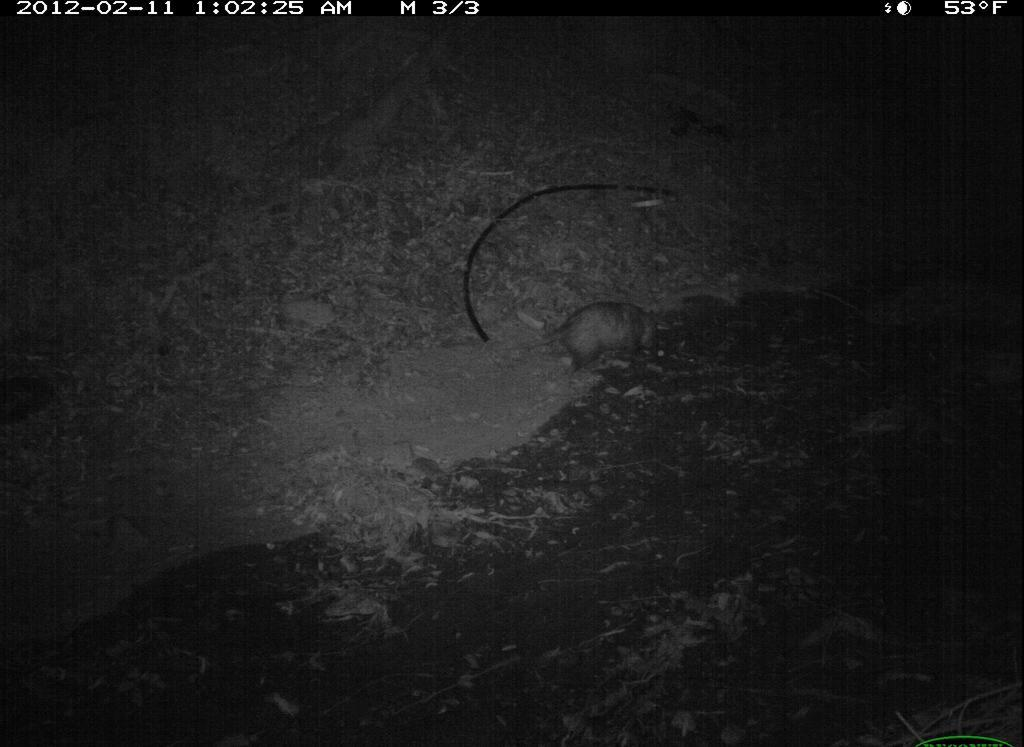opossum: (510, 296, 683, 388)
